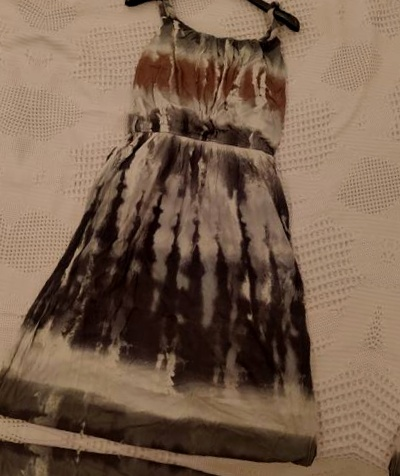Dress: (18, 0, 400, 470), (372, 28, 400, 476), (0, 447, 324, 476), (0, 0, 14, 401)
